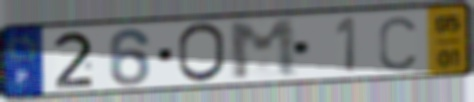1: (333, 15, 359, 75)
2: (52, 30, 96, 91)
6: (106, 26, 152, 88)
C: (376, 14, 418, 72)
M: (226, 17, 302, 83)
O: (176, 21, 229, 85)
